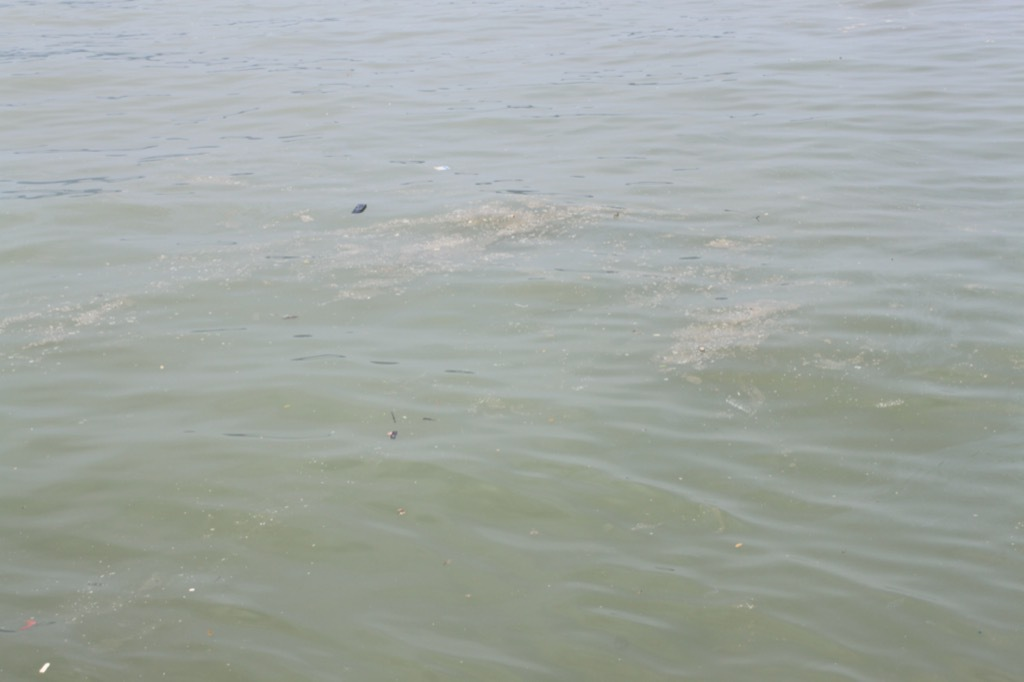organic: (386, 404, 409, 430), (381, 427, 409, 447)
plastic: (714, 375, 774, 424), (337, 190, 383, 231), (864, 389, 919, 423), (22, 647, 58, 682), (9, 609, 46, 641), (427, 158, 458, 178), (391, 498, 414, 523), (728, 532, 752, 555), (691, 340, 709, 359), (187, 581, 202, 599)
